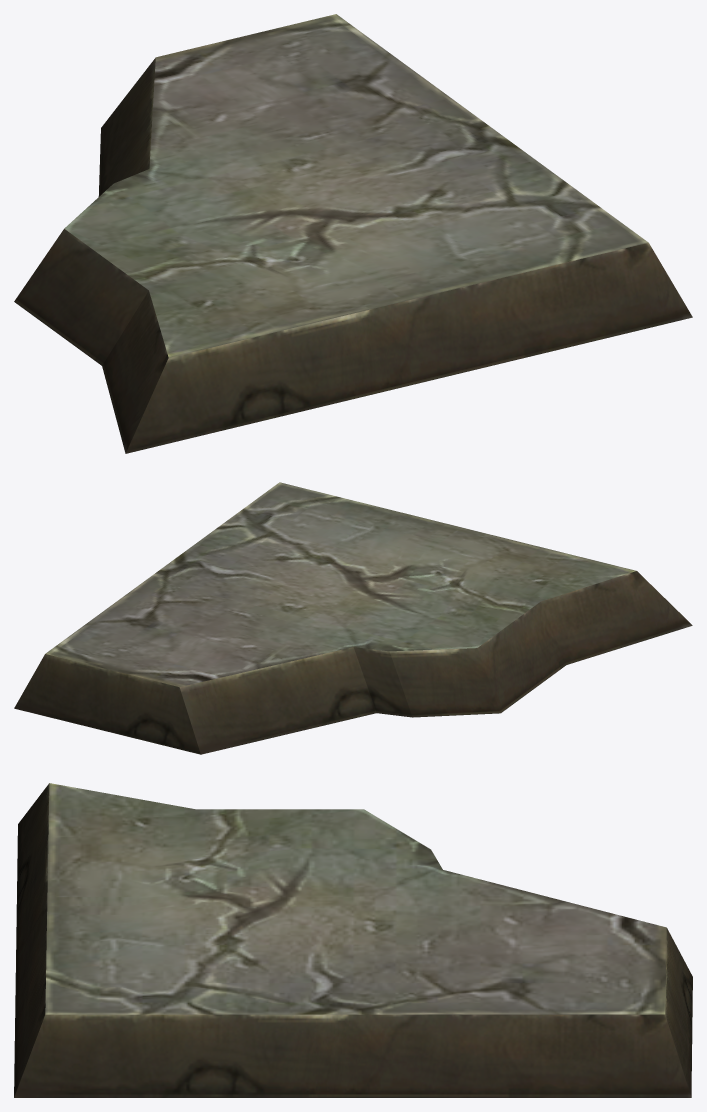
File: F_dizhuan011.fbx
3 renders of one model, top to bottom at view 1: azimuth 30°, elevation 25°; view 2: azimuth 150°, elevation 25°; view 3: azimuth 270°, elevation 25°, orthographic. The views are drawn at different scales.
Visible parts, largest first — view 1: F_dizhuan011; view 2: F_dizhuan011; view 3: F_dizhuan011.
Boxes of the visible parts, x1,y1,x2,y2 form: F_dizhuan011: [14, 14, 692, 453]; F_dizhuan011: [14, 482, 692, 754]; F_dizhuan011: [14, 783, 692, 1097].
Size of the model in its own units: 112 by 13.3 by 118.
